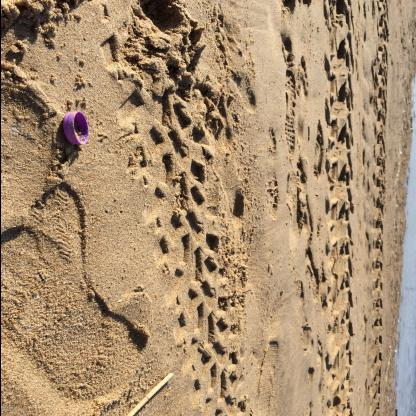plastik: (62, 112, 88, 146)
